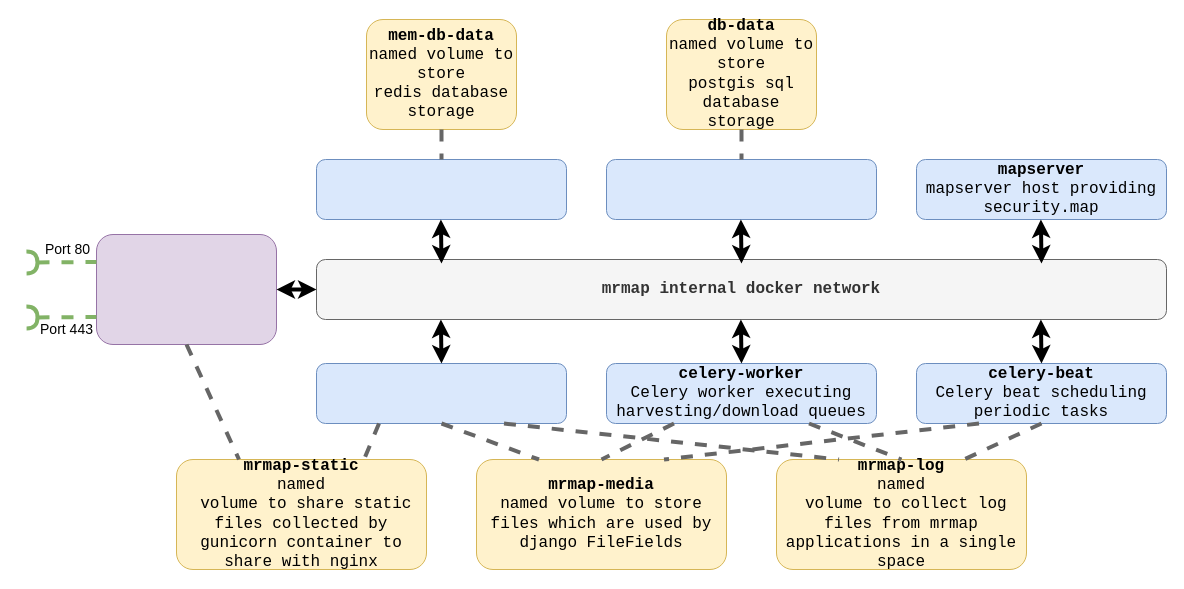
Image size: 1184x589. Some labels were removed from this diagram. Each missing label, with the centre of its shape:
"gunicorn with uvicorn worker ASGI application server" belongs at point (441, 393).
"nginx / Apache HTTP Reverse Proxy" belongs at point (186, 289).
"postgis postgis database server" belongs at point (741, 189).
"redis redis mem db server" belongs at point (441, 189).
